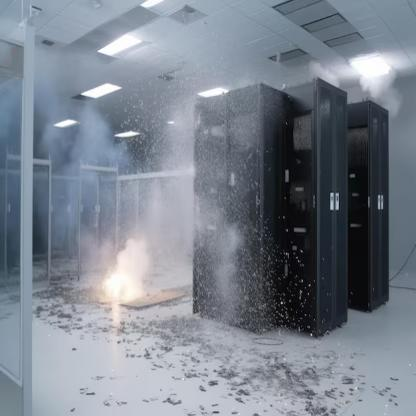smoke: (0, 39, 406, 356)
